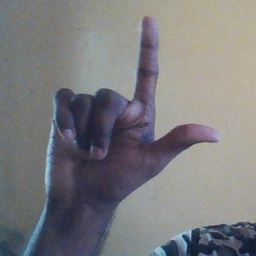L: (43, 16, 221, 211)
